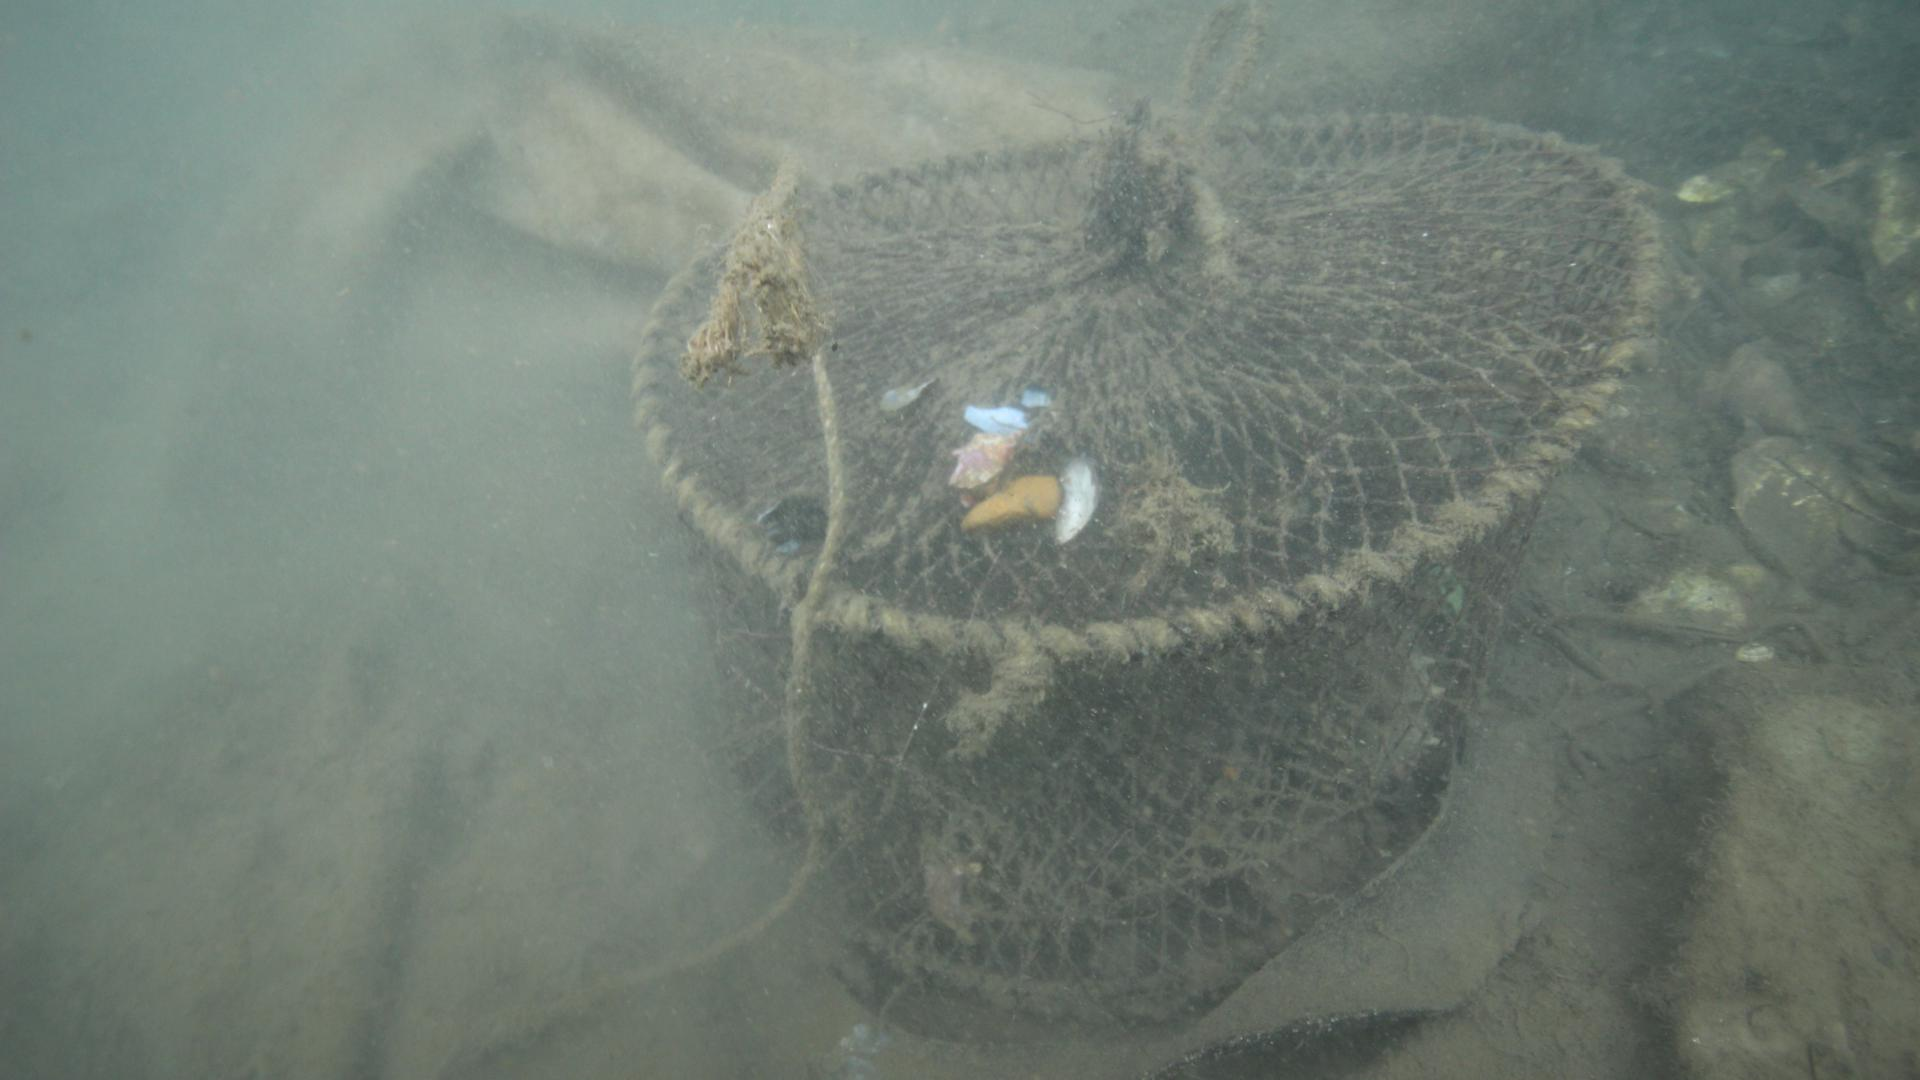circular fish trap: (630, 109, 1647, 1025)
rope: (686, 380, 841, 975)
